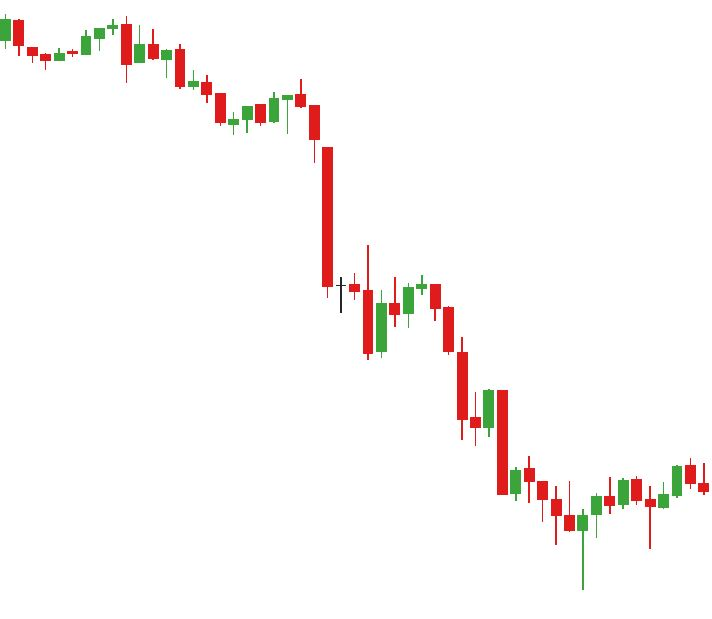sell: (12, 15, 135, 56)
